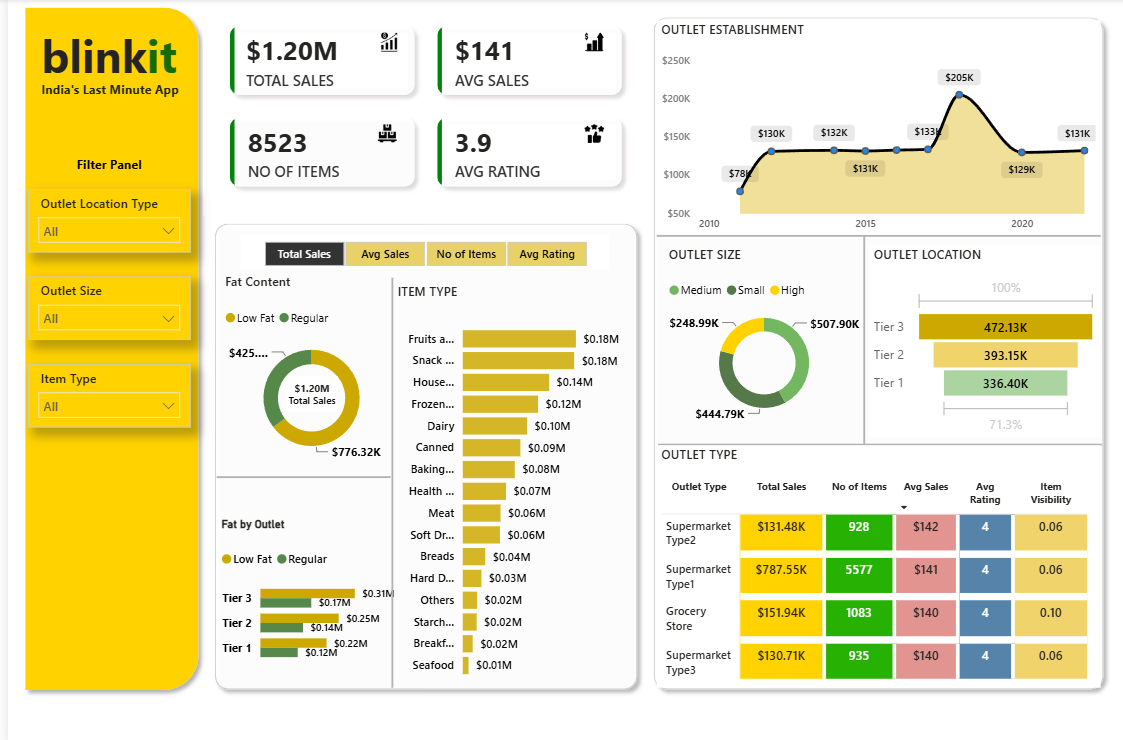

This screenshot's page, from the dashboard's own definition file:
{"tool":"powerbi","page":{"name":"Page 1","canvas":[1200,800],"ordinal":0},"visuals":[{"type":"shape","box":[10.1,0,204,750],"z":0},{"type":"textbox","box":[30.8,22.8,164.9,76.4],"z":1000},{"type":"textbox","box":[30.8,83.1,158.2,30.8],"z":2000},{"type":"cardVisual","fields":{"Data":["BlinkIT Grocery Data.Total Sales","BlinkIT Grocery Data.Avg Sales","BlinkIT Grocery Data.No of Items","BlinkIT Grocery Data.Avg Rating"]},"box":[209.1,0,478.6,231.9],"z":3000},{"type":"shape","box":[213.1,231.9,470.5,517.4],"z":4000},{"type":"donutChart","title":"Fat Content","fields":{"Y":["BlinkIT Grocery Data.Total Sales"],"Category":["BlinkIT Grocery Data.Item Fat Content"]},"box":[227.9,293.6,195.7,211.8],"z":5000},{"type":"slicer","fields":{"Values":["matrics.matrics"]},"box":[249.3,253.4,395.4,36.2],"z":6000},{"type":"cardVisual","fields":{"Data":["BlinkIT Grocery Data.Total Sales"]},"box":[293.6,399.5,65.7,48.3],"z":7000},{"type":"clusteredBarChart","title":"Fat by Outlet","fields":{"Y":["BlinkIT Grocery Data.Total Sales"],"Category":["BlinkIT Grocery Data.Outlet Location Type"],"Series":["BlinkIT Grocery Data.Item Fat Content"]},"box":[223.9,556.3,195.7,166.2],"z":8000},{"type":"shape","box":[223.9,490.6,186.3,44.2],"z":9000},{"type":"shape","box":[400.8,298.9,22.8,439.7],"z":10000},{"type":"barChart","title":"ITEM TYPE","fields":{"Y":["BlinkIT Grocery Data.Total Sales"],"Category":["BlinkIT Grocery Data.Item Type"]},"box":[412.9,304.3,248,434.3],"z":11000},{"type":"shape","box":[683.6,10.7,500,738.6],"z":12000},{"type":"lineChart","title":"OUTLET ESTABLISHMENT","fields":{"Category":["BlinkIT Grocery Data.Outlet Establishment Year"],"Y":["BlinkIT Grocery Data.Total Sales"]},"box":[695.7,22.8,475.9,234.6],"z":13000},{"type":"donutChart","title":"OUTLET SIZE","fields":{"Y":["BlinkIT Grocery Data.Total Sales"],"Category":["BlinkIT Grocery Data.Outlet Size"]},"box":[703.8,264.1,214.5,195.7],"z":14000},{"type":"shape","box":[695.7,231.9,475.9,44.2],"z":15000},{"type":"funnel","title":"OUTLET LOCATION","fields":{"Y":["Sum(BlinkIT Grocery Data.Sales)"],"Category":["BlinkIT Grocery Data.Outlet Location Type"]},"box":[923.6,264.1,249.3,206.4],"z":16000},{"type":"shape","box":[912.9,253.4,10.7,225.2],"z":17000},{"type":"shape","box":[697.1,455.8,475.9,44.2],"z":18000},{"type":"pivotTable","title":"OUTLET TYPE","fields":{"Rows":["BlinkIT Grocery Data.Outlet Type"],"Values":["BlinkIT Grocery Data.Total Sales","BlinkIT Grocery Data.No of Items","BlinkIT Grocery Data.Avg Sales","BlinkIT Grocery Data.Avg Rating","Avg(BlinkIT Grocery Data.Item Visibility)"]},"box":[695.7,478.6,475.9,260.1],"z":19000},{"type":"slicer","fields":{"Values":["BlinkIT Grocery Data.Outlet Location Type"]},"box":[21.4,203.8,174.3,68.4],"z":19001},{"type":"slicer","fields":{"Values":["BlinkIT Grocery Data.Outlet Size"]},"box":[21.4,297.6,174.3,68.4],"z":19002},{"type":"slicer","fields":{"Values":["BlinkIT Grocery Data.Item Type"]},"box":[21.4,391.4,174.3,68.4],"z":19003},{"type":"textbox","box":[64.3,163.5,88.5,28.2],"z":19004}]}

Visuals, with their boxes in screenshot pixels (x1, y1, x2, y2), scaled from the page's 1200x800 canvas onto the 1123x740 screenshot:
shape: (x1=9, y1=0, x2=200, y2=694)
textbox: (x1=29, y1=21, x2=183, y2=92)
textbox: (x1=29, y1=77, x2=177, y2=105)
cardVisual - BlinkIT Grocery Data.Total Sales x BlinkIT Grocery Data.Avg Sales: (x1=196, y1=0, x2=644, y2=215)
shape: (x1=199, y1=215, x2=640, y2=693)
"Fat Content" donutChart: (x1=213, y1=272, x2=396, y2=467)
slicer - matrics.matrics: (x1=233, y1=234, x2=603, y2=268)
cardVisual - BlinkIT Grocery Data.Total Sales: (x1=275, y1=370, x2=336, y2=414)
"Fat by Outlet" clusteredBarChart: (x1=210, y1=515, x2=393, y2=668)
shape: (x1=210, y1=454, x2=384, y2=495)
shape: (x1=375, y1=276, x2=396, y2=683)
"ITEM TYPE" barChart: (x1=386, y1=281, x2=618, y2=683)
shape: (x1=640, y1=10, x2=1108, y2=693)
"OUTLET ESTABLISHMENT" lineChart: (x1=651, y1=21, x2=1096, y2=238)
"OUTLET SIZE" donutChart: (x1=659, y1=244, x2=859, y2=425)
shape: (x1=651, y1=215, x2=1096, y2=255)
"OUTLET LOCATION" funnel: (x1=864, y1=244, x2=1098, y2=435)
shape: (x1=854, y1=234, x2=864, y2=443)
shape: (x1=652, y1=422, x2=1098, y2=462)
"OUTLET TYPE" pivotTable: (x1=651, y1=443, x2=1096, y2=683)
slicer - BlinkIT Grocery Data.Outlet Location Type: (x1=20, y1=189, x2=183, y2=252)
slicer - BlinkIT Grocery Data.Outlet Size: (x1=20, y1=275, x2=183, y2=339)
slicer - BlinkIT Grocery Data.Item Type: (x1=20, y1=362, x2=183, y2=425)
textbox: (x1=60, y1=151, x2=143, y2=177)
